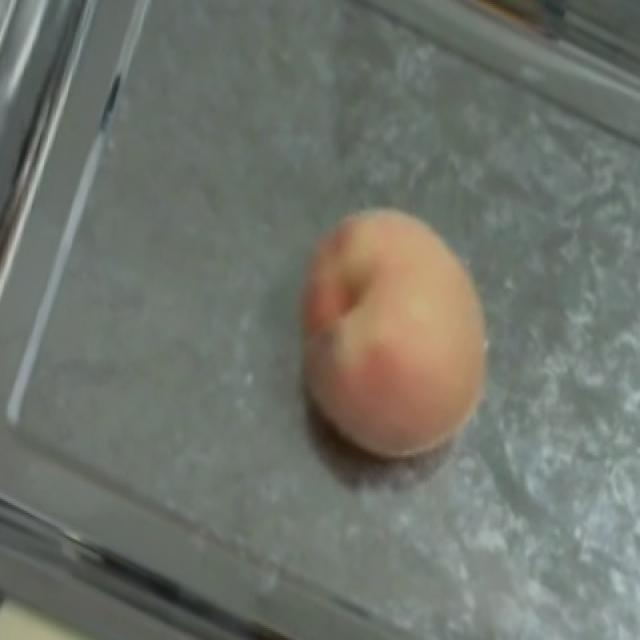Fruit: (253, 173, 536, 491), (0, 566, 161, 639)
